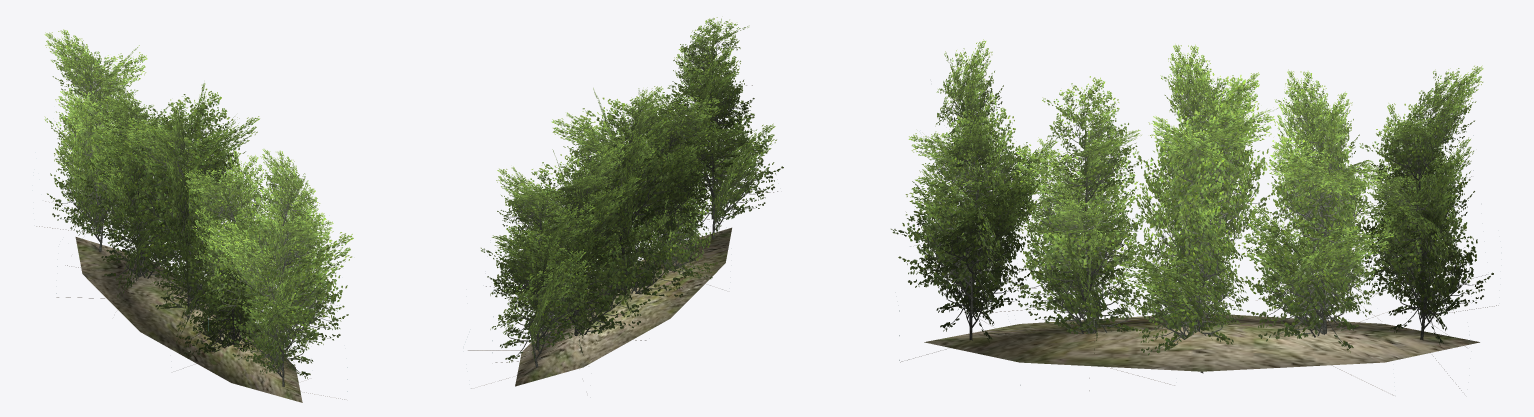
File: cf_sm_hedge.obj
3 views of the same model, side by side, from view 1: azimuth 30°, elevation 25°; view 2: azimuth 150°, elevation 25°; view 3: azimuth 270°, elevation 25° (orthographic). The views are drawn at different scales.
Parts seen in each view (by area): view 1: b3, b1, small_Cube.001, b2, b2.001, b4; view 2: b2, b1, b3, b4, small_Cube.001, b2.001; view 3: b1, b4, b3, b2.001, b2, small_Cube.001.
Boxes of the visible parts, <box> form: b3: <box>208,149,353,399</box>; b1: <box>110,83,286,343</box>; small_Cube.001: <box>75,237,302,402</box>; b2: <box>36,29,147,251</box>; b2.001: <box>176,150,297,368</box>; b4: <box>56,91,217,298</box>; b2: <box>468,166,600,388</box>; b1: <box>551,86,690,312</box>; b3: <box>634,17,783,239</box>; b4: <box>492,142,650,362</box>; small_Cube.001: <box>515,227,731,386</box>; b2.001: <box>622,94,722,289</box>; b1: <box>1120,44,1283,373</box>; b4: <box>1238,69,1395,395</box>; b3: <box>891,39,1060,385</box>; b2.001: <box>1008,76,1174,390</box>; b2: <box>1356,65,1498,390</box>; small_Cube.001: <box>924,314,1479,371</box>.
Size of the model in its own units: 3.48 by 4.87 by 8.31.
